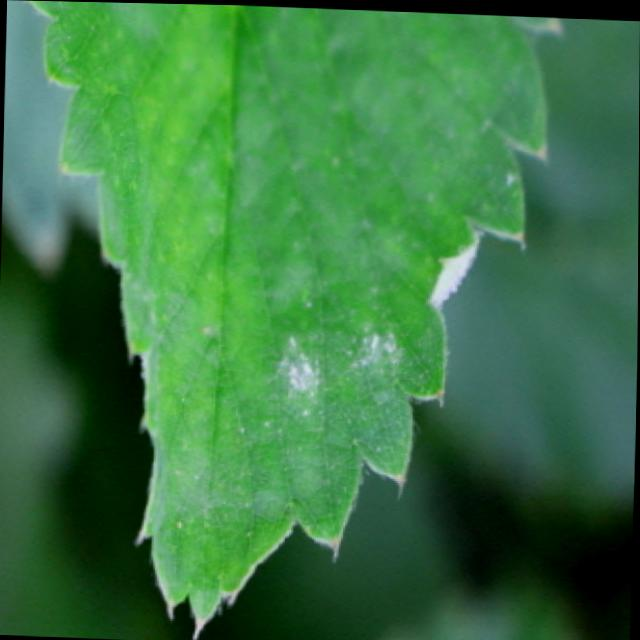Powdery Mildew Leaf: (23, 0, 565, 640)
